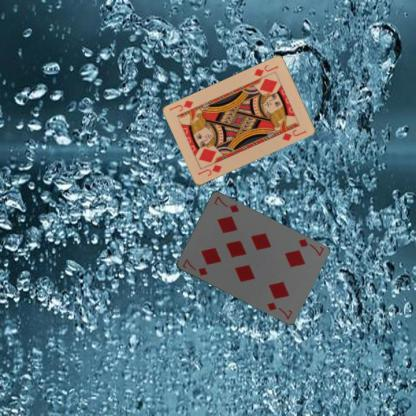7d: (295, 236, 325, 257), (180, 257, 209, 278)
Jd: (195, 162, 223, 178), (251, 62, 279, 78)
